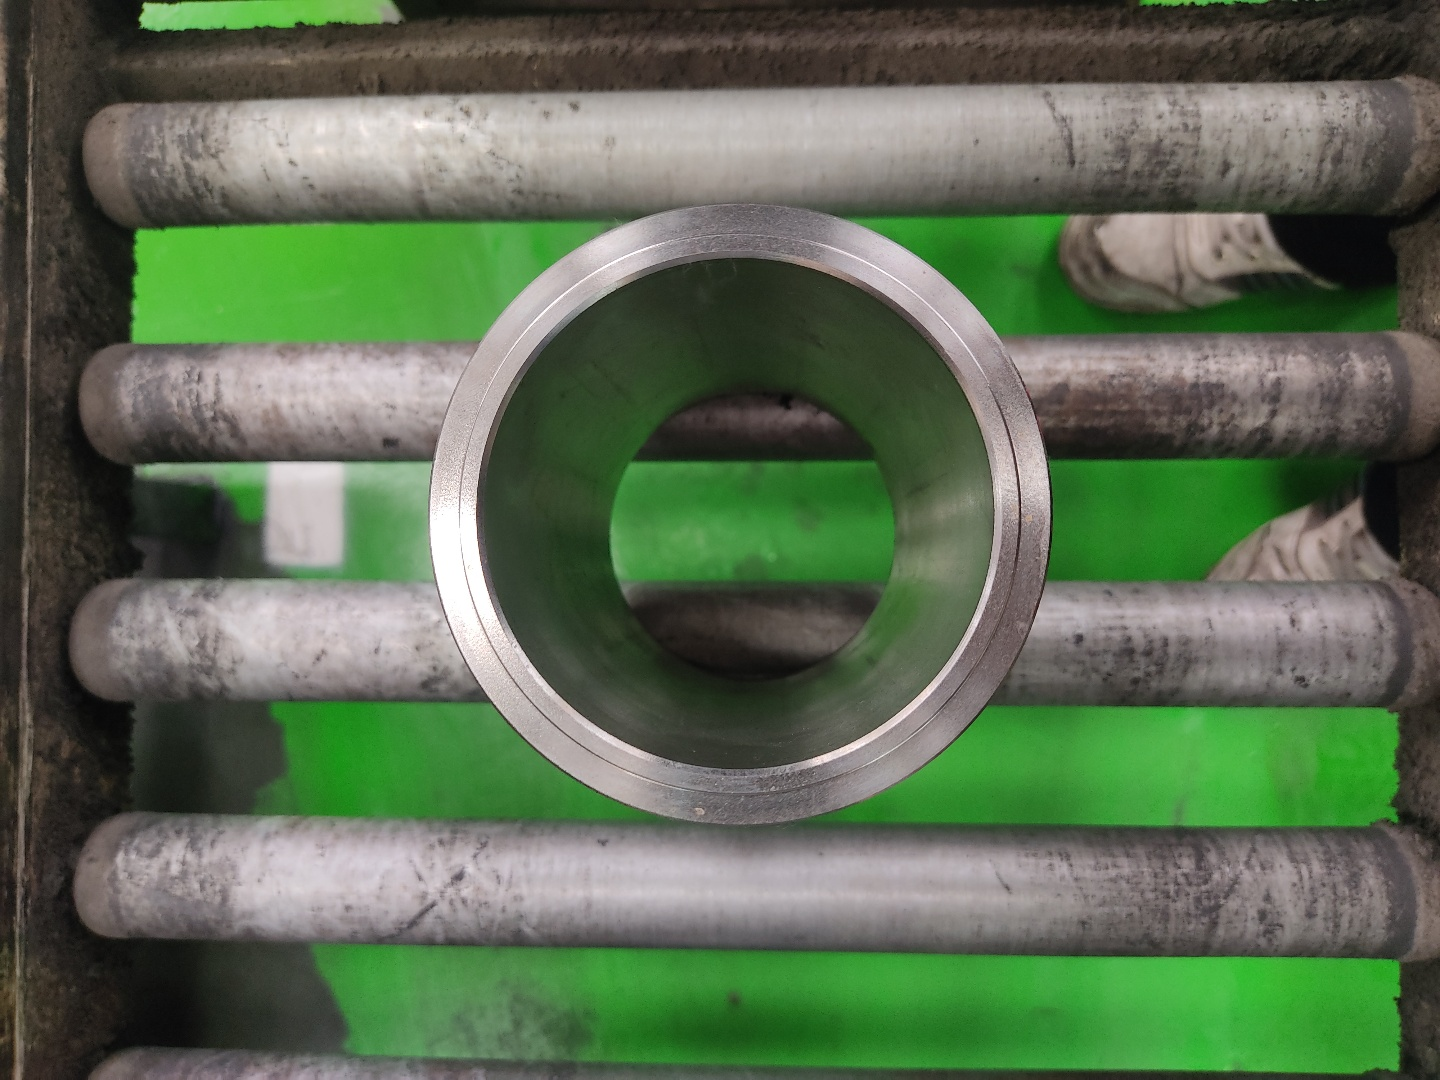cylinder: (423, 196, 1060, 833)
